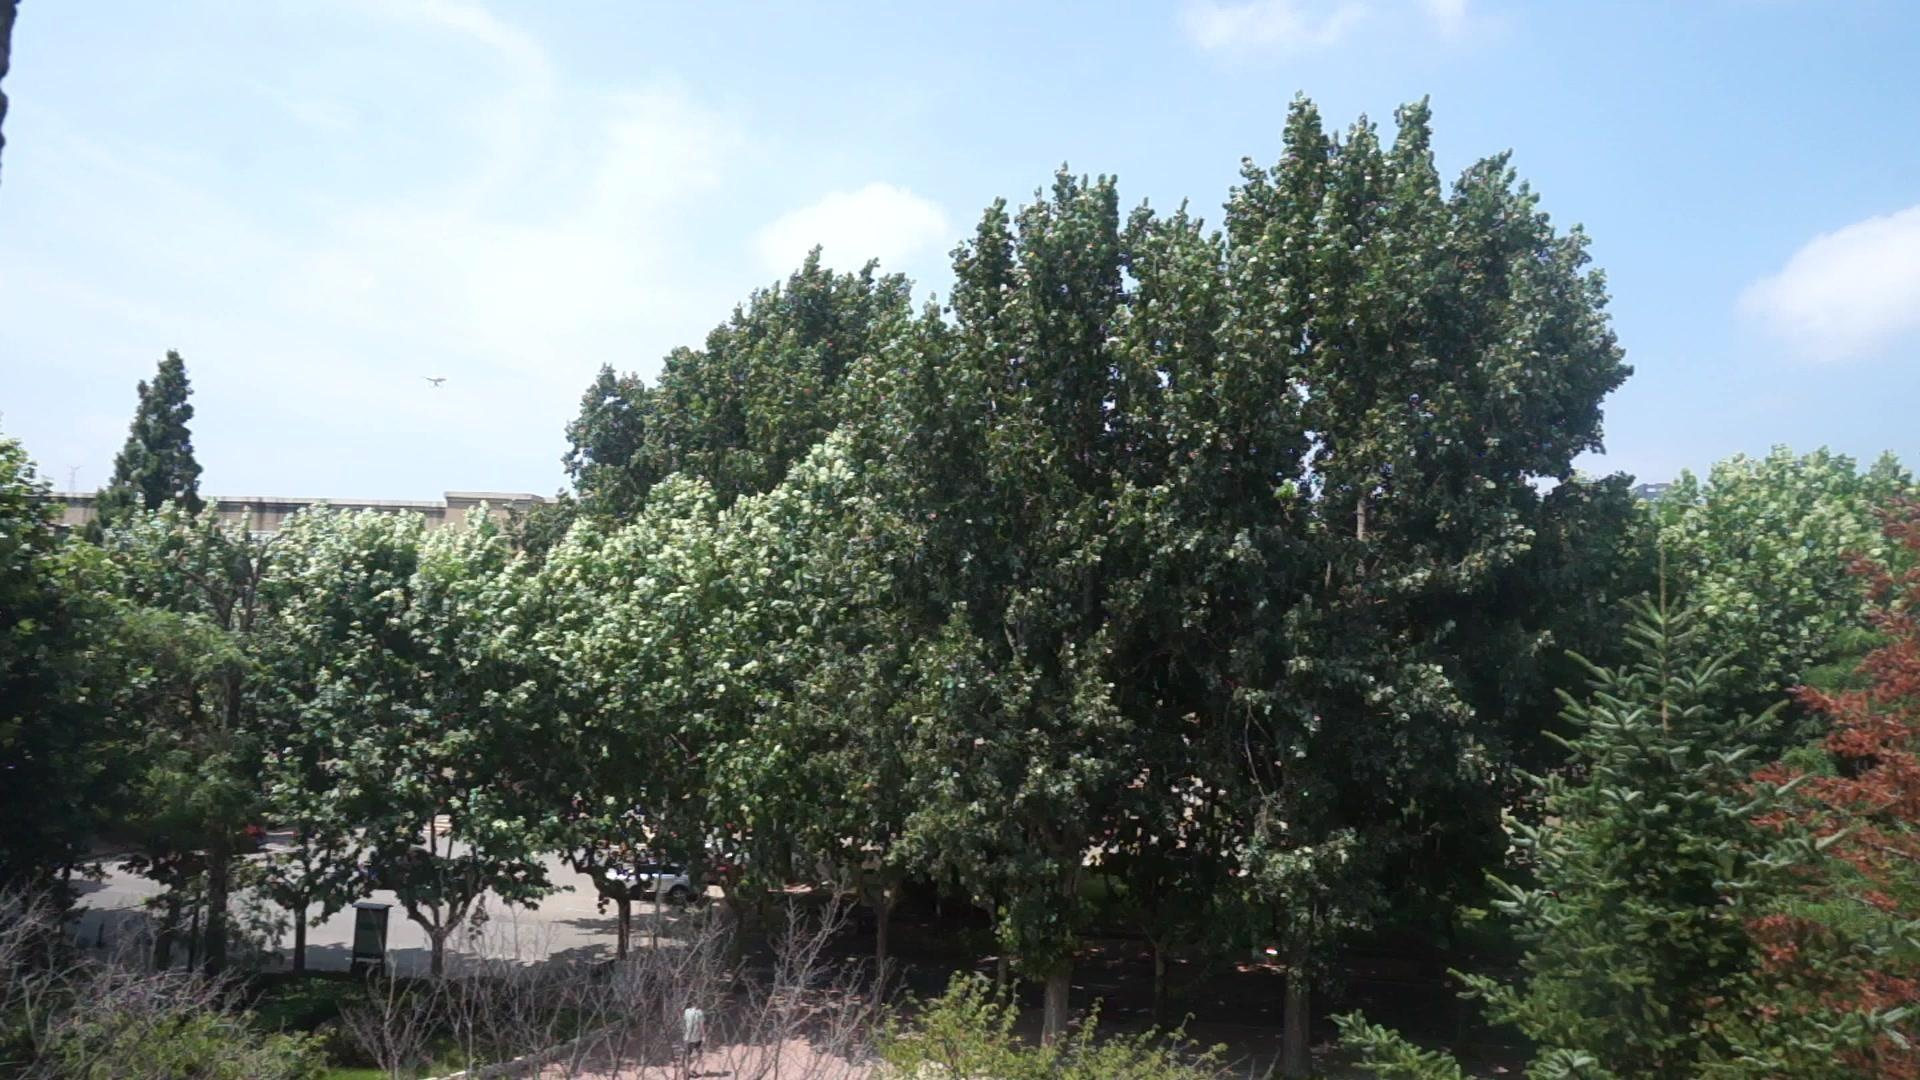UAV: (427, 378, 447, 386)
